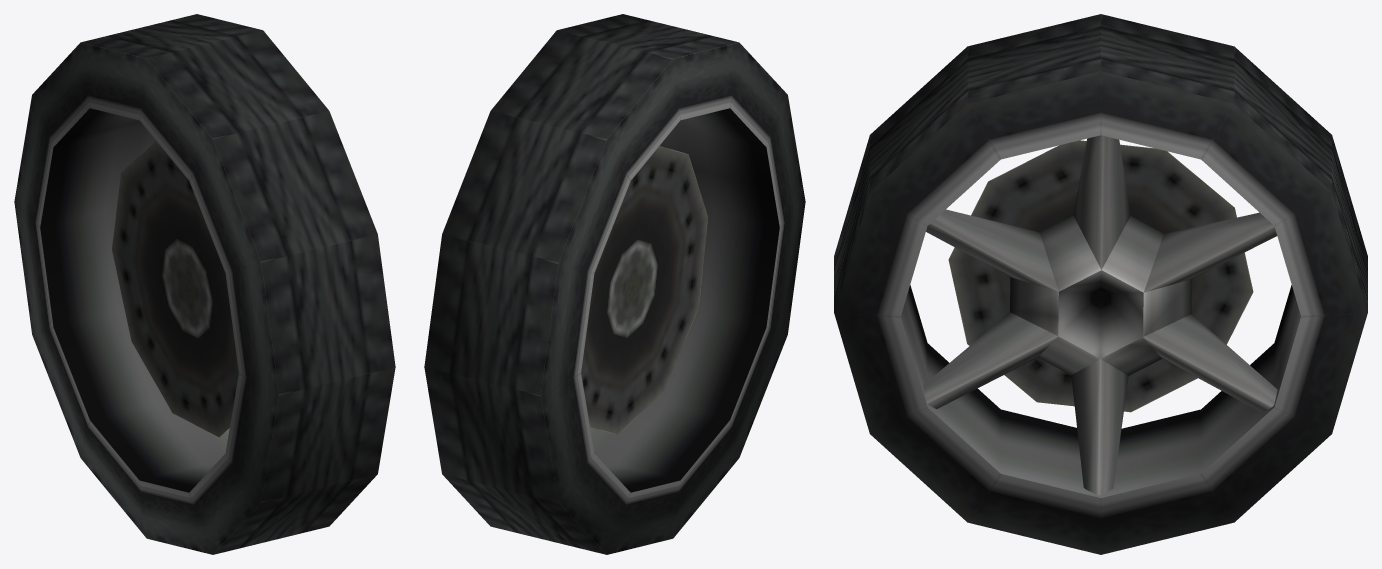
The model's file is wheel_gn1.glb.
The picture shows the model from 3 angles, left to right: view 1: azimuth 30°, elevation 25°; view 2: azimuth 150°, elevation 25°; view 3: azimuth 270°, elevation 25°; orthographic projection.
Visible parts, largest first — view 1: wheel_gn1; view 2: wheel_gn1; view 3: wheel_gn1.
Part boxes in pixels (x1,y1,x2,y2): wheel_gn1: (14, 14, 395, 554); wheel_gn1: (424, 14, 805, 554); wheel_gn1: (834, 14, 1367, 554).
Size of the model in its own units: 0.281 by 0.9843 by 0.9843.
2 materials, 2 textured.
